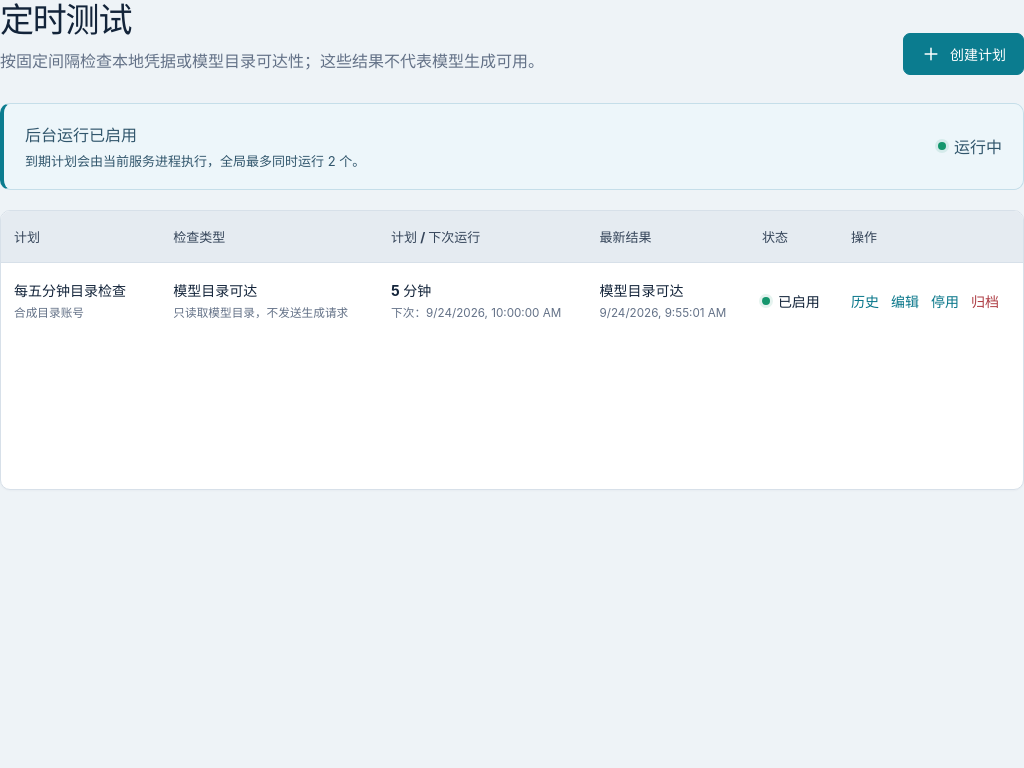
scheduled tests page › loads bounded history and uses an explicit irreversible archive confirmation
This screenshot has width=1024, height=768.
Click the button "历史" at (865, 301), box [851,291,879,311]
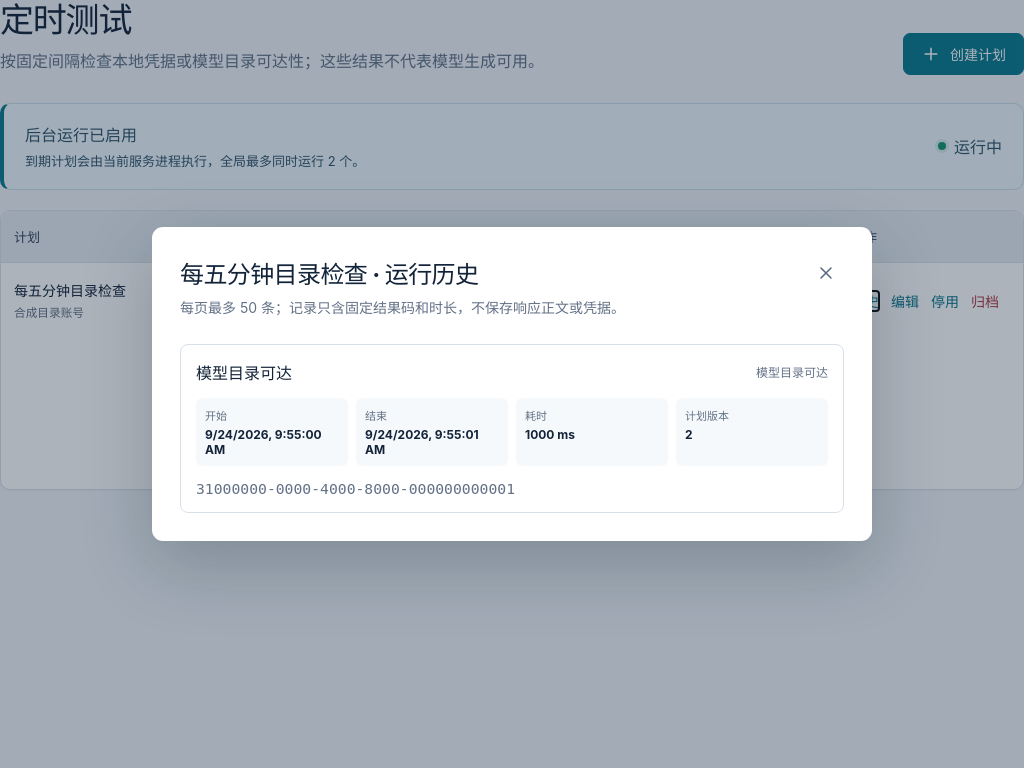
Expected: the text "31000000-0000-4000-8000-000000000001" is shown, [196,480,515,497]
Click the button named "关闭" at (826, 273), box [808,255,844,291]
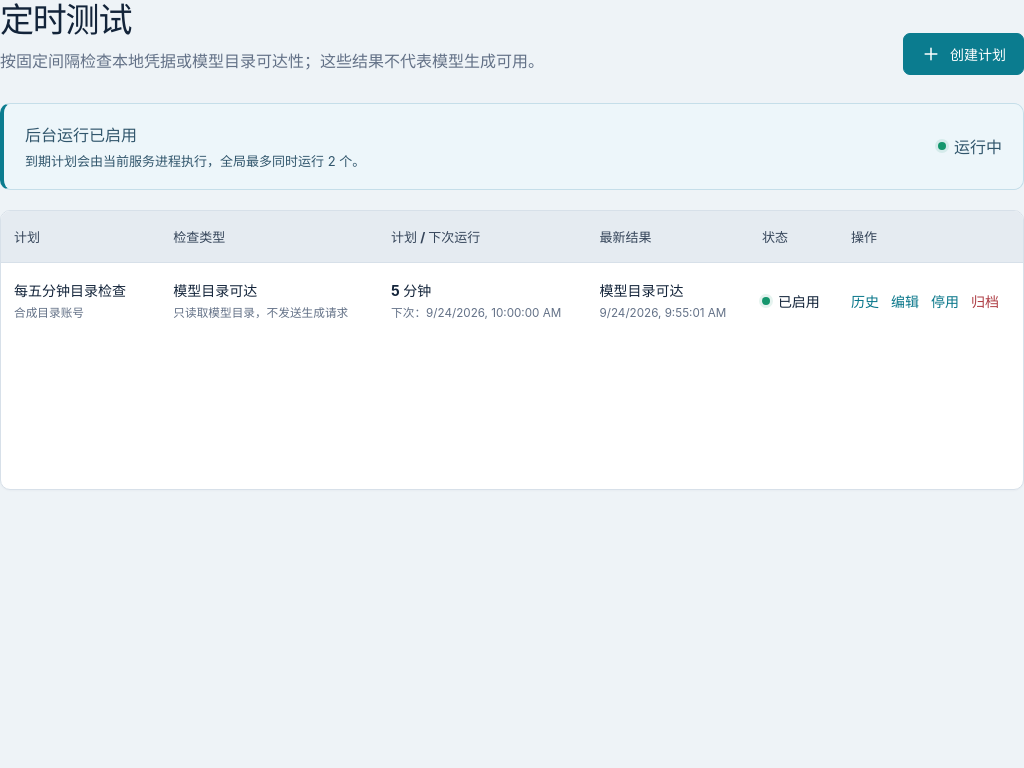
Click the button "归档" at (985, 301), box [971,291,999,311]
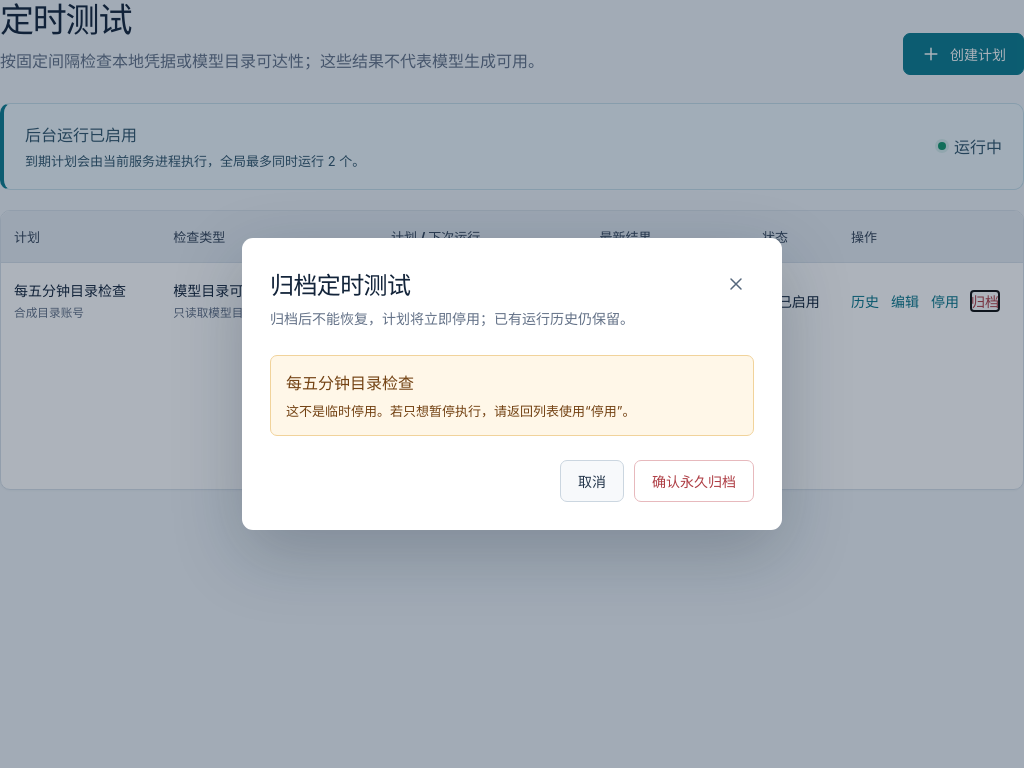
Expected: the text "归档后不能恢复，计划将立即停用；已有运行历史仍保留。" is shown, [270,308,634,331]
Expected: the text "这不是临时停用。若只想暂停执行，请返回列表使用“停用”。" is shown, [286,403,636,419]
Click the button "确认永久归档" at (694, 481), box [634,460,754,502]
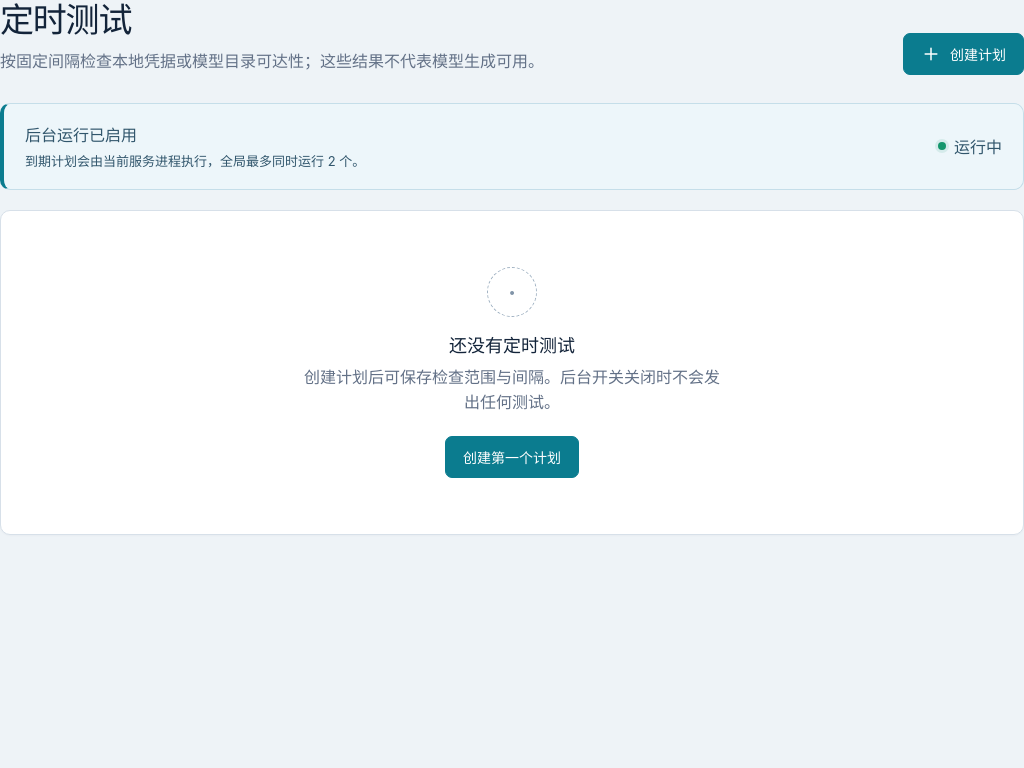
Expected: the text "每五分钟目录检查" is gone
